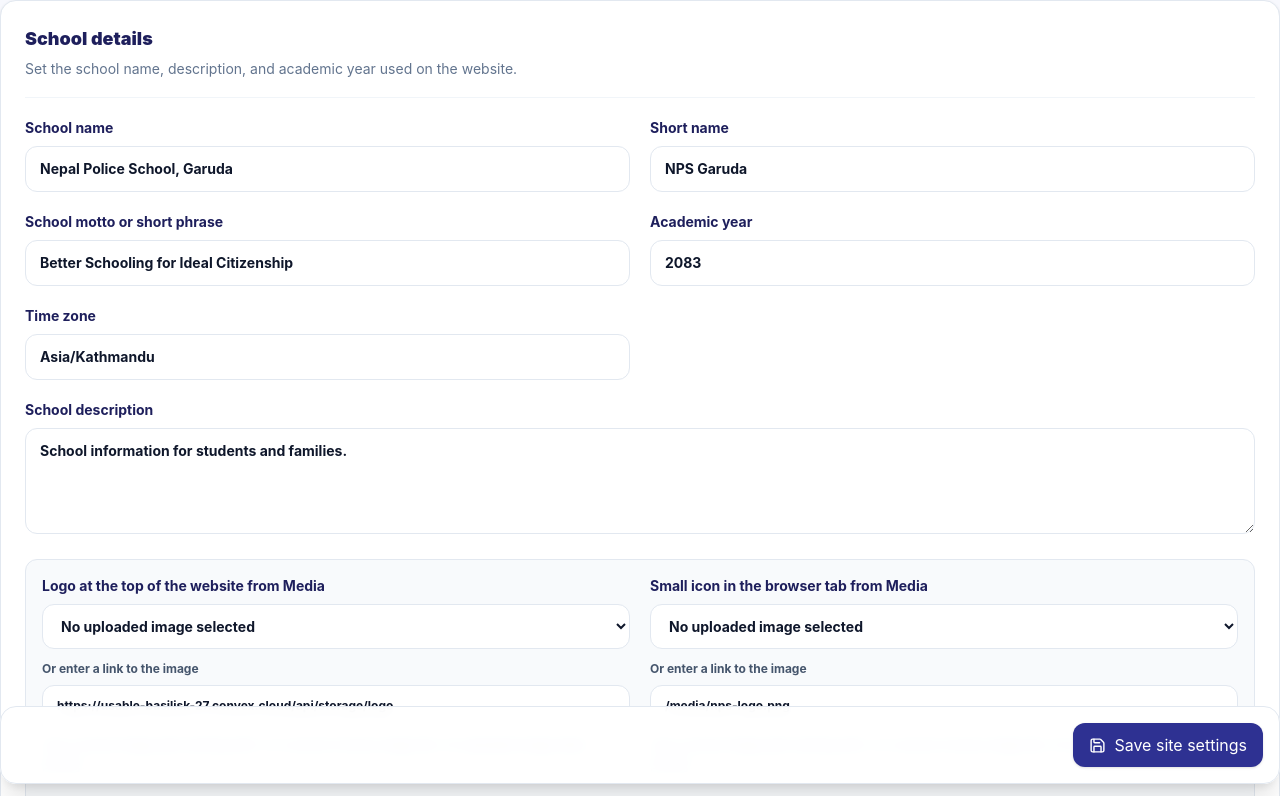
Scenario: site settings media paths › keeps supported Convex storage URLs valid and reports server validation errors
What coordinates should you click on to do the following:
click the button "Save site settings"
I would click on:
 (1168, 745)
Its box is [1073, 723, 1263, 767].
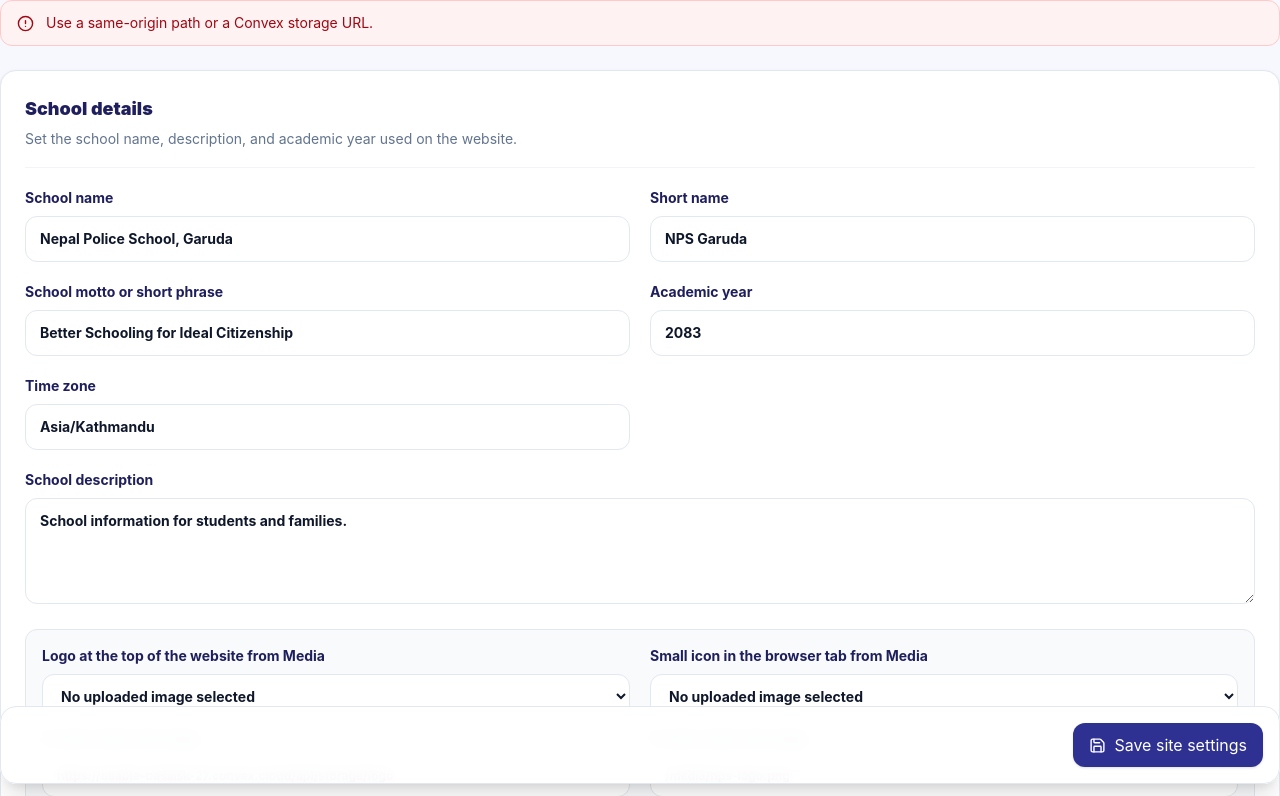
expect the message shows "Use a same-origin path": met, box [46, 14, 373, 31]
